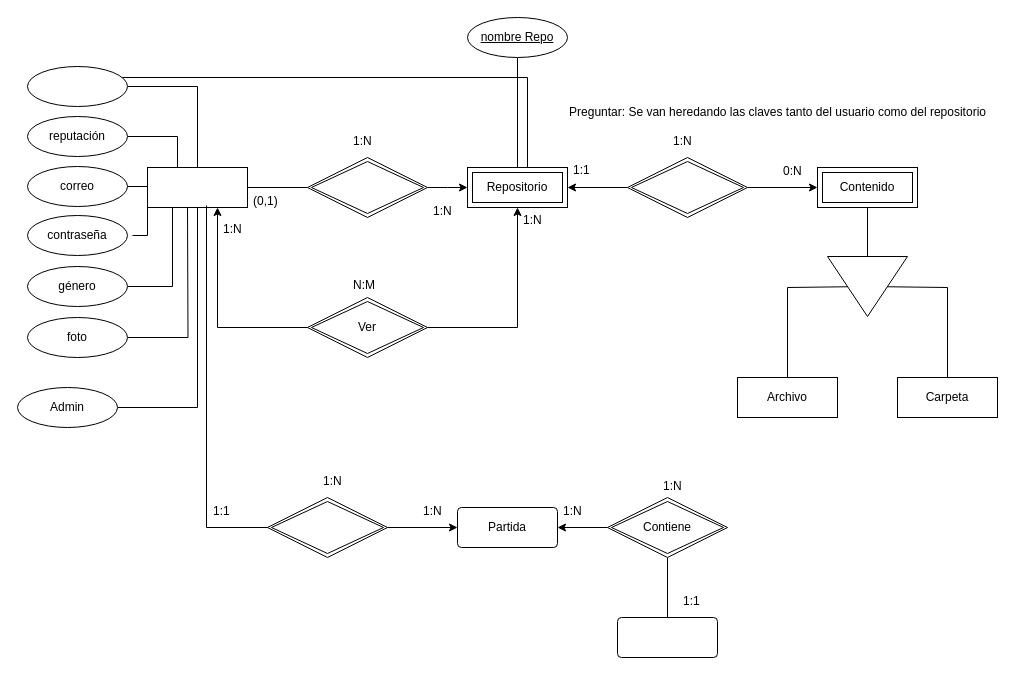
This 1015x675 diagram has some shape labels left out. Here are the shapes that lost their labels. From the top down, the centre of each, then its label:
the point at 77,86: nombre
the point at 197,187: Usuario
the point at 367,187: Posee
the point at 687,187: Tiene
the point at 867,286: Preguntar si se pone entidad débil o fuerte en la herencia
the point at 327,527: Juega
the point at 667,637: Palabra
